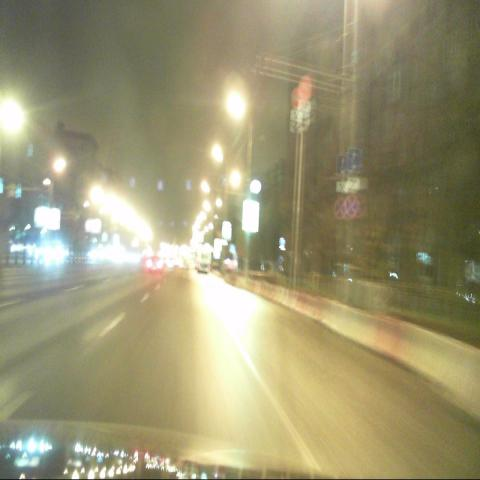5_14: (347, 147, 361, 172)
